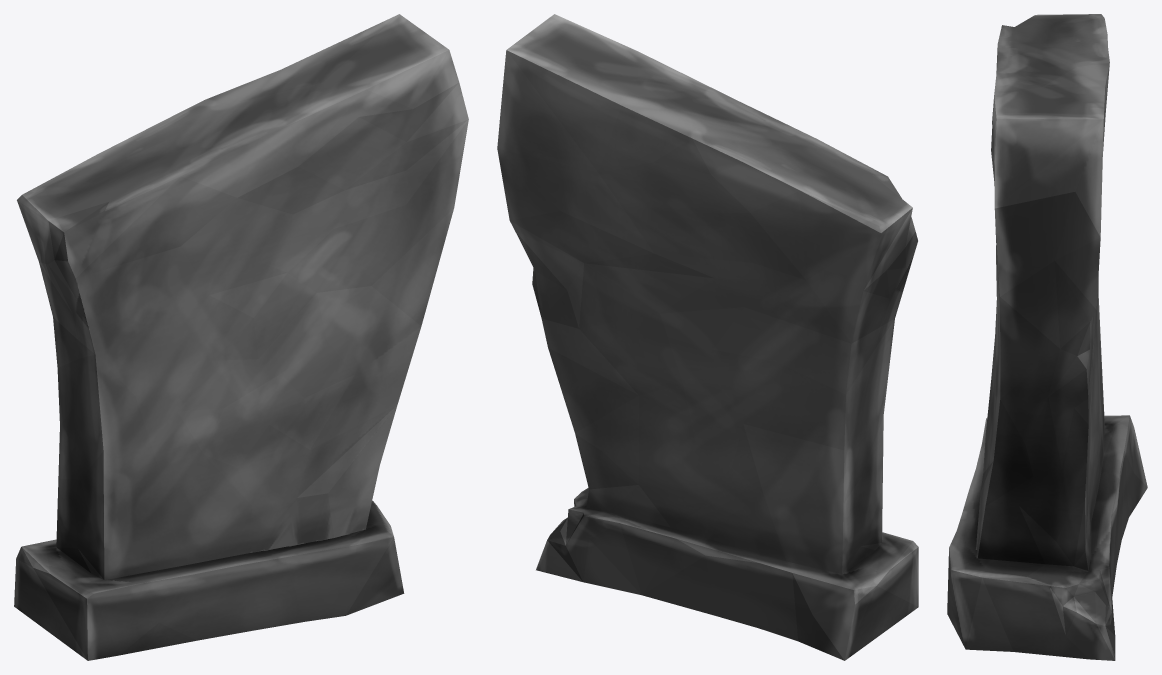
Rendered from gravestone01_c.fbx.
3 renders of one model, left to right at view 1: azimuth 30°, elevation 25°; view 2: azimuth 150°, elevation 25°; view 3: azimuth 270°, elevation 25°, orthographic. The views are drawn at different scales.
Visible parts, largest first — view 1: Gravestone01_lp_C; view 2: Gravestone01_lp_C; view 3: Gravestone01_lp_C.
Part boxes in pixels (left/top/right/bottom): Gravestone01_lp_C: left=14, top=14, right=468, bottom=660; Gravestone01_lp_C: left=497, top=14, right=918, bottom=660; Gravestone01_lp_C: left=947, top=14, right=1147, bottom=660.
Bounding box in the file's own units: 1.14 × 0.4569 × 1.41.
